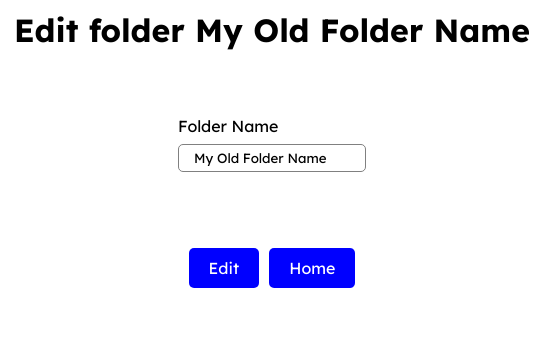
EditFolder › should display server error message on API POST failure
This screenshot has width=546, height=357.
Type "New Name" into the field labelled "Folder Name".
click(272, 158); type("New Name")  # box [178,144,366,172]
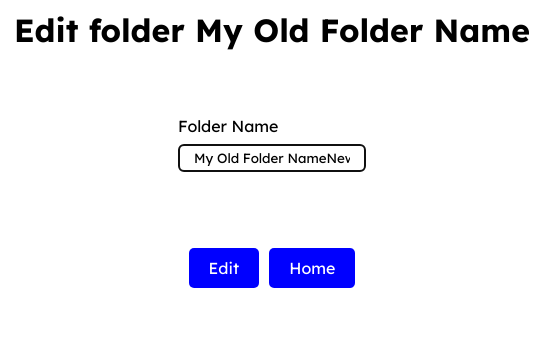
Click the button "Edit".
click(224, 268)  # box [189,248,259,288]
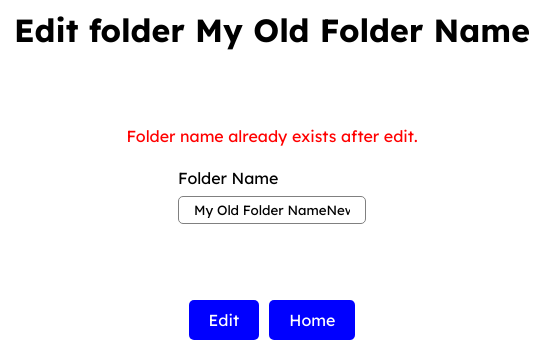
Expected: the button "Edit" is shown, [189,300,259,340]
Expected: the text "Folder name already exists after edit." is shown, [126,126,418,146]
